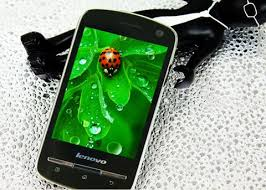lenovo: (30, 4, 180, 190)
